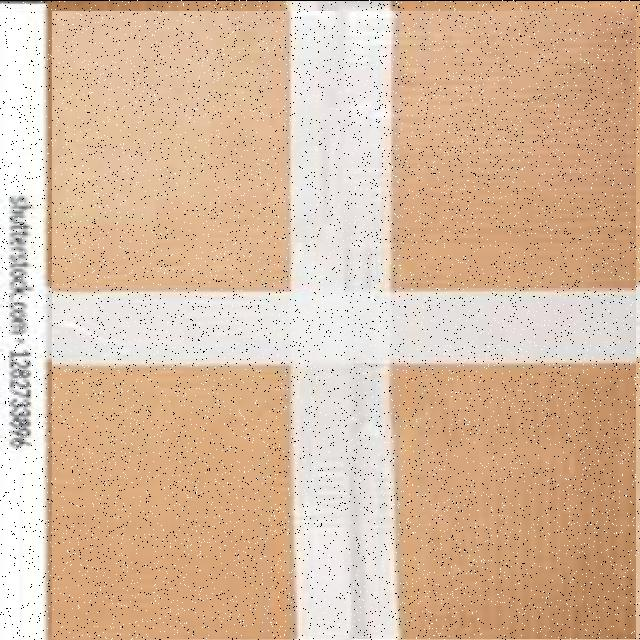normal: (52, 10, 636, 638)
